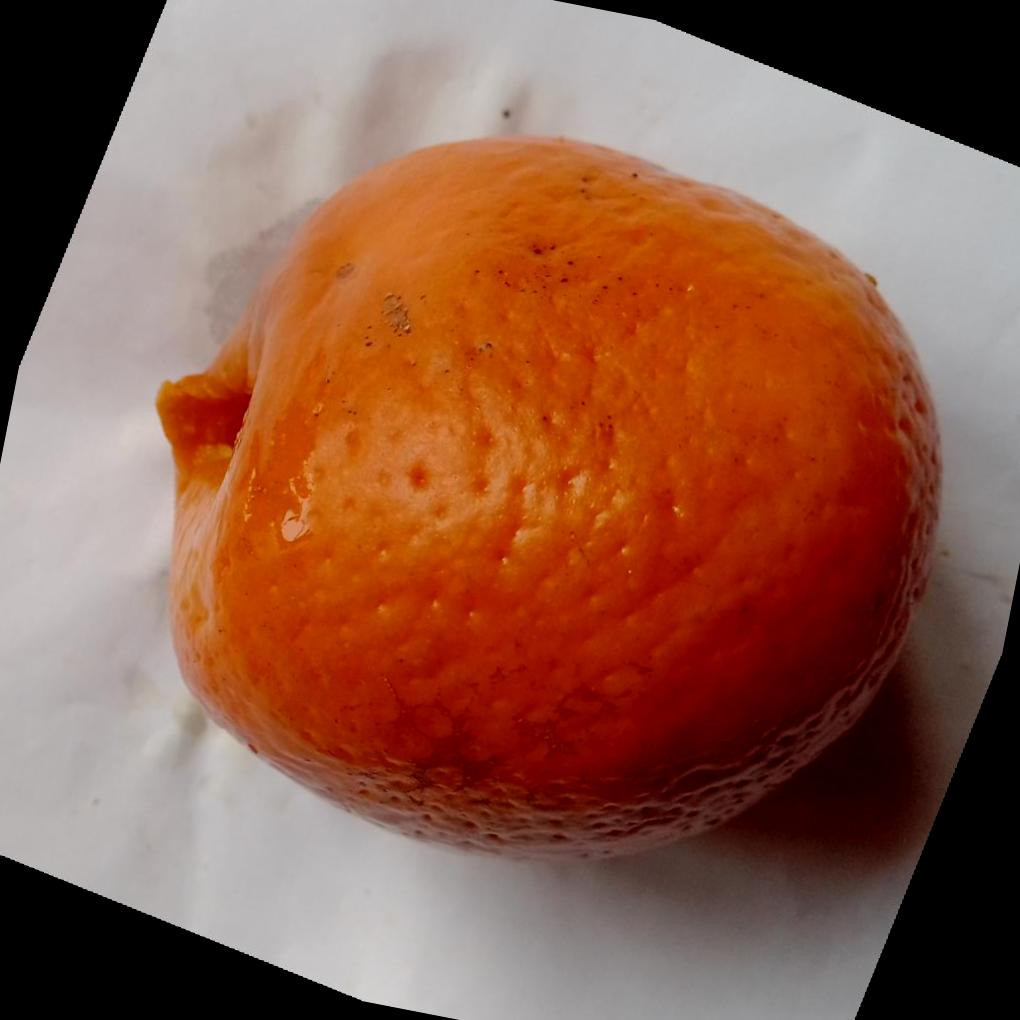FreshOrange: (156, 134, 946, 865)
